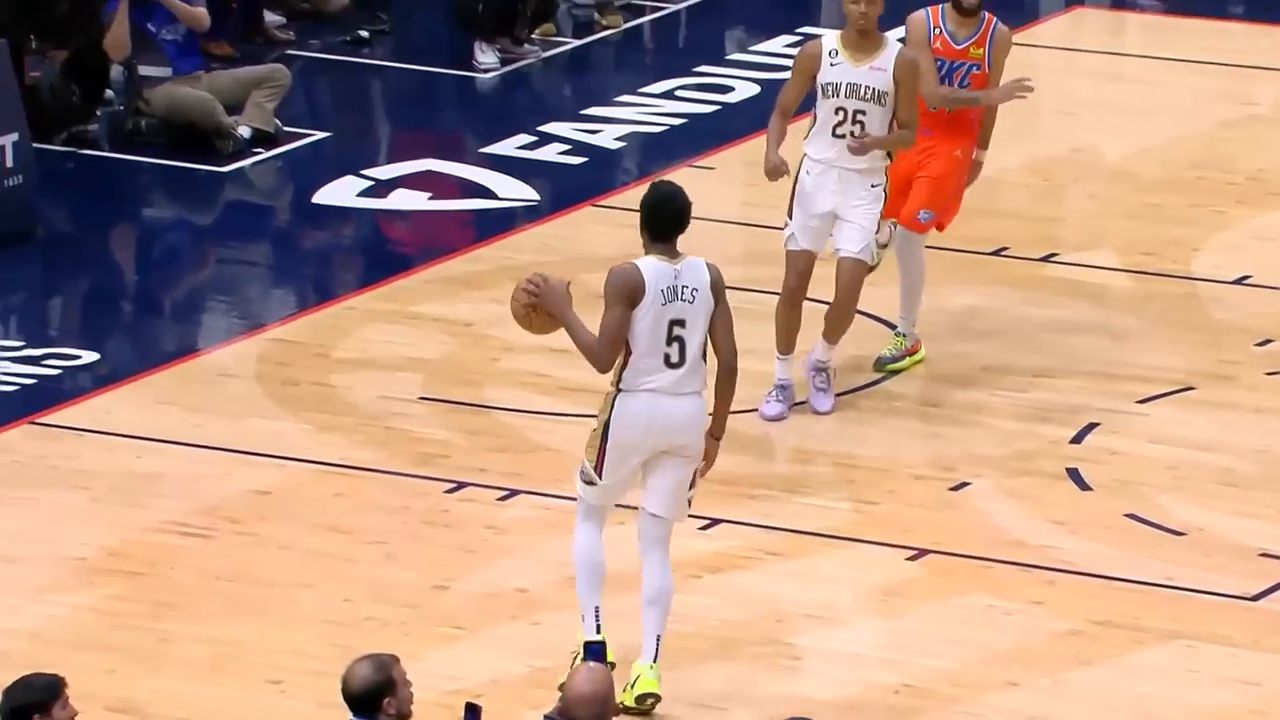ball: (503, 268, 581, 340)
